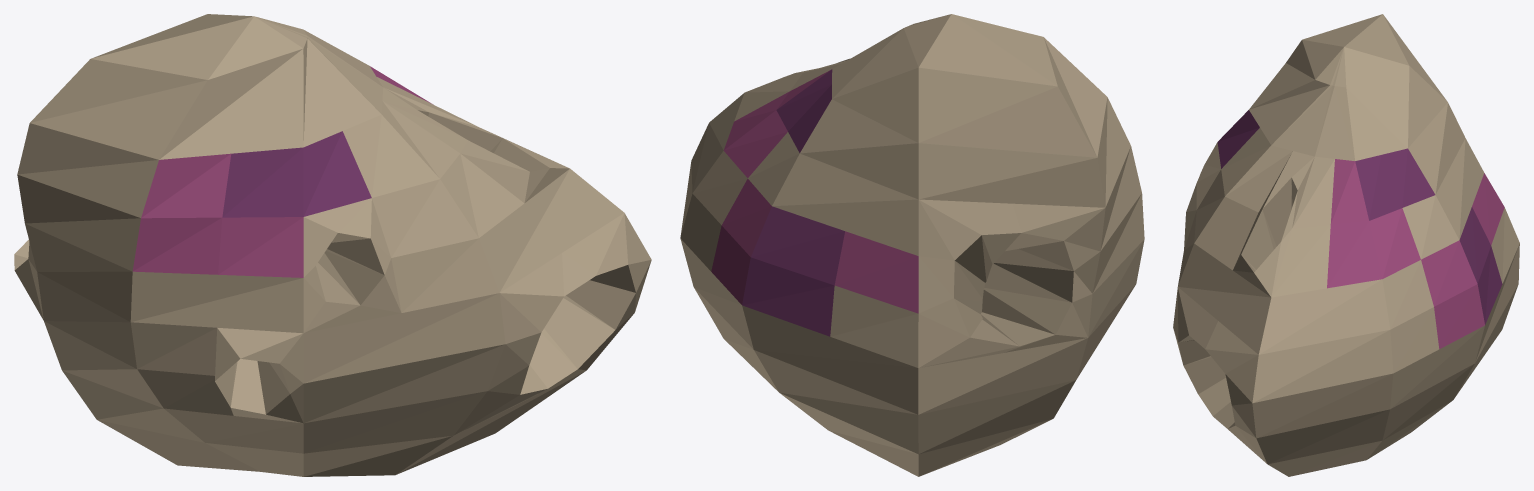
The model's file is live-rock-piece-6c7bdf.glb.
The picture shows the model from 3 angles, left to right: view 1: azimuth 30°, elevation 25°; view 2: azimuth 150°, elevation 25°; view 3: azimuth 270°, elevation 25°; orthographic projection. The views are drawn at different scales.
Visible parts, largest first — view 1: live-rock; view 2: live-rock; view 3: live-rock.
Boxes of the visible parts, x1=… form: live-rock: x1=14, y1=14, x2=651, y2=476; live-rock: x1=680, y1=14, x2=1144, y2=476; live-rock: x1=1173, y1=14, x2=1519, y2=476.
Bounding box in the file's own units: 0.45 × 0.351 × 0.315.
